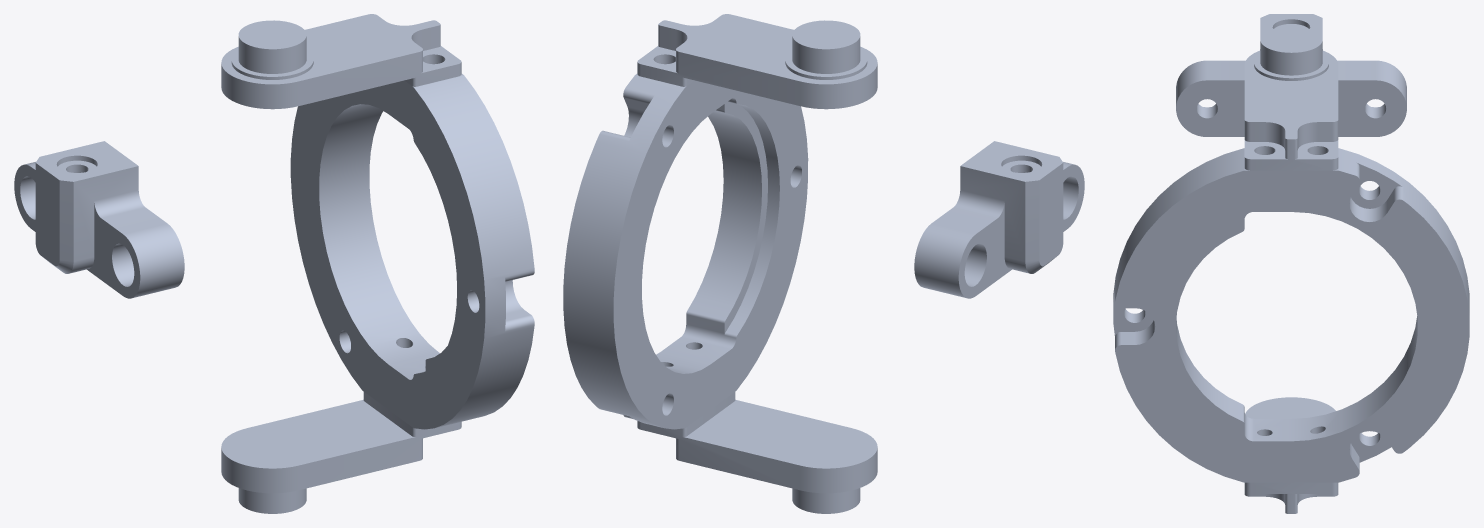
3 views of the same model, side by side, from view 1: azimuth 30°, elevation 25°; view 2: azimuth 150°, elevation 25°; view 3: azimuth 270°, elevation 25° (orthographic). The views are drawn at different scales.
Visible parts, largest first — view 1: link6_02; view 2: link6_02; view 3: link6_02.
Part boxes in pixels (x1,y1,x2,y2): link6_02: (14,14,534,513); link6_02: (563,14,1084,513); link6_02: (1113,14,1469,513).
Bounding box in the file's own units: 0.066 × 0.075 × 0.0569.
